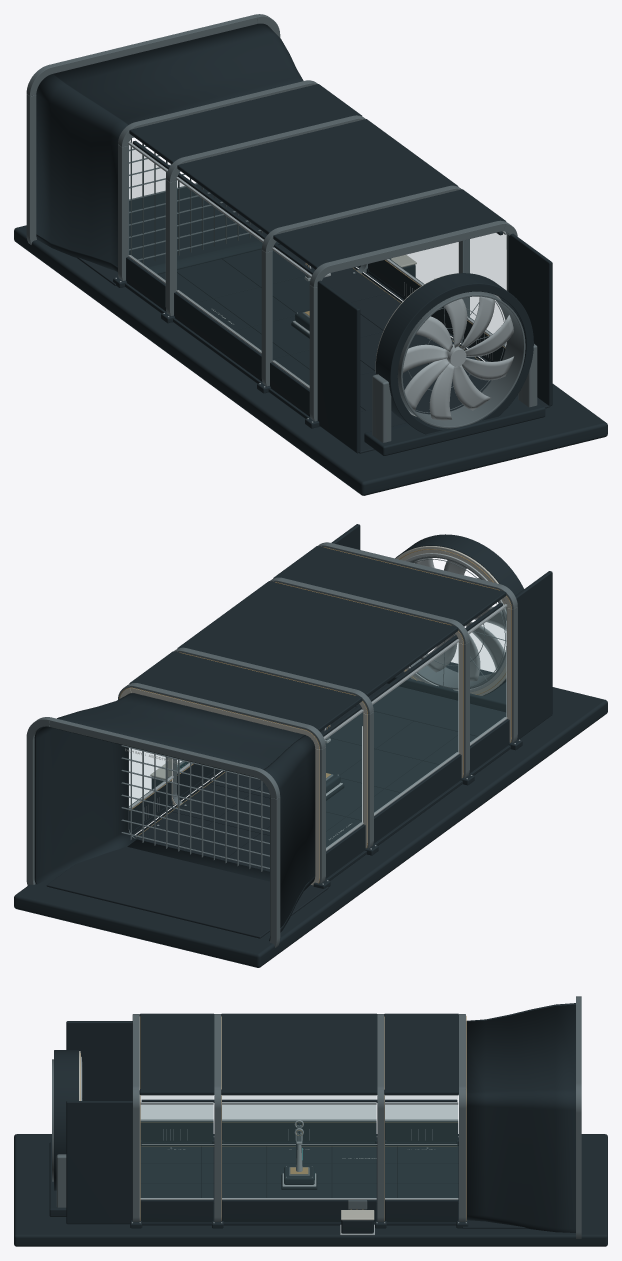
File: tunnel.glb
The picture shows the model from 3 angles, top to bottom: view 1: azimuth 30°, elevation 25°; view 2: azimuth 150°, elevation 25°; view 3: azimuth 270°, elevation 25°; orthographic projection. The views are drawn at different scales.
Visible parts, largest first — view 1: Foundation structural raft, Roof acoustic cassette.001, Collector formed shell, Collector formed shell.001, Observation bay glass.001, Roof acoustic cassette, Roof acoustic cassette.002, Diffuser acoustic flank, Extraction outer nacelle, Inlet deck, Diffuser acoustic flank.001, Observation bay glass.002 (+42 smaller); view 2: Collector formed shell, Foundation structural raft, Roof acoustic cassette.001, Inlet deck, Observation bay glass.001, Roof acoustic cassette, Roof acoustic cassette.002, Collector formed shell.001, Diffuser acoustic flank, Observation bay glass, Observation bay glass.002, Diffuser deck (+42 smaller); view 3: Collector formed shell, Foundation structural raft, Observation bay glass.004, Roof acoustic cassette.001, Diffuser acoustic flank.001, Observation bay glass.003, Observation bay glass.005, Roof acoustic cassette.002, Roof acoustic cassette, Diffuser acoustic flank, Lower acoustic cladding.001, Lower acoustic cladding.004 (+45 smaller).
Part boxes in pixels (left/top/right/bottom): Foundation structural raft: left=14, top=184, right=607, bottom=495; Roof acoustic cassette.001: left=177, top=119, right=458, bottom=234; Collector formed shell: left=53, top=23, right=303, bottom=124; Collector formed shell.001: left=36, top=74, right=128, bottom=266; Observation bay glass.001: left=177, top=181, right=262, bottom=350; Roof acoustic cassette: left=129, top=84, right=362, bottom=164; Roof acoustic cassette.002: left=273, top=189, right=506, bottom=269; Diffuser acoustic flank: left=317, top=280, right=360, bottom=453; Extraction outer nacelle: left=376, top=273, right=533, bottom=434; Inlet deck: left=77, top=194, right=279, bottom=285; Diffuser acoustic flank.001: left=508, top=233, right=552, bottom=406; Observation bay glass.002: left=272, top=251, right=310, bottom=385; Collector formed shell: left=34, top=693, right=304, bottom=884; Foundation structural raft: left=14, top=662, right=607, bottom=967; Roof acoustic cassette.001: left=177, top=581, right=458, bottom=696; Inlet deck: left=46, top=846, right=328, bottom=938; Observation bay glass.001: left=373, top=642, right=458, bottom=813; Roof acoustic cassette: left=129, top=651, right=362, bottom=731; Roof acoustic cassette.002: left=273, top=546, right=506, bottom=626; Collector formed shell.001: left=255, top=735, right=315, bottom=935; Diffuser acoustic flank: left=515, top=571, right=552, bottom=739; Observation bay glass: left=325, top=713, right=362, bottom=848; Observation bay glass.002: left=469, top=607, right=506, bottom=743; Diffuser deck: left=355, top=683, right=506, bottom=736; Collector formed shell: left=466, top=1004, right=575, bottom=1232; Foundation structural raft: left=14, top=1134, right=607, bottom=1246; Observation bay glass.004: left=222, top=1105, right=376, bottom=1197; Roof acoustic cassette.001: left=221, top=1013, right=377, bottom=1095; Diffuser acoustic flank.001: left=66, top=1101, right=132, bottom=1224; Observation bay glass.003: left=385, top=1105, right=457, bottom=1197; Observation bay glass.005: left=141, top=1105, right=213, bottom=1197; Roof acoustic cassette.002: left=139, top=1013, right=214, bottom=1095; Roof acoustic cassette: left=384, top=1013, right=458, bottom=1095; Diffuser acoustic flank: left=66, top=1021, right=132, bottom=1100; Lower acoustic cladding.001: left=222, top=1121, right=376, bottom=1141; Lower acoustic cladding.004: left=222, top=1200, right=376, bottom=1222.
Bounding box in the file's own units: 21.1 × 15.1 × 51.
